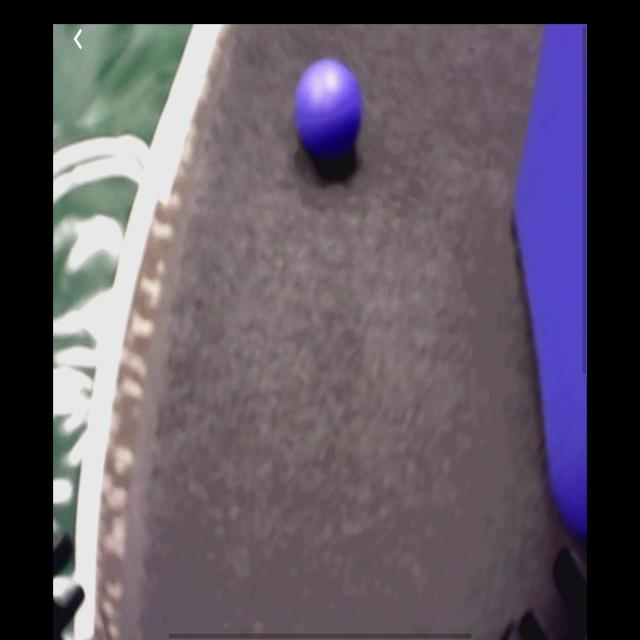ball: (296, 61, 363, 155)
